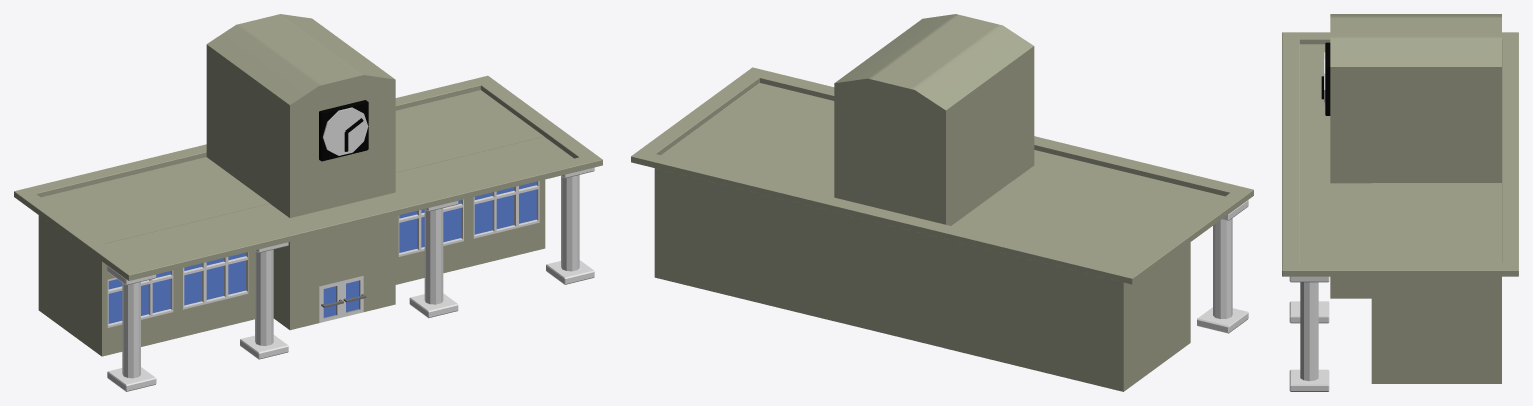
File: School 001.fbx
The picture shows the model from 3 angles, left to right: view 1: azimuth 30°, elevation 25°; view 2: azimuth 150°, elevation 25°; view 3: azimuth 270°, elevation 25°; orthographic projection. The views are drawn at different scales.
Parts seen in each view (by area): view 1: pCube1, pCube9 (×2), pCube3, pCylinder2 (×4), pCube13 (×2), pCube14 (×2), pCube12 (×4), pCylinder1, pCube4; view 2: pCube9 (×2), pCube1, pCube3, pCylinder2, pCube12; view 3: pCube1, pCube9, pCube3, pCylinder2, pCube12 (×2), pCube4, pCube11.
Part boxes in pixels (<box>): pCube1: <box>206,14,395,330</box>; pCube9 (×2): <box>38,90,545,356</box>; pCube3: <box>14,75,602,280</box>; pCylinder2 (×4): <box>122,175,579,378</box>; pCube13 (×2): <box>107,181,539,327</box>; pCube14 (×2): <box>183,199,463,309</box>; pCube12 (×4): <box>107,260,594,391</box>; pCylinder1: <box>323,107,368,155</box>; pCube4: <box>319,100,368,161</box>; pCube9 (×2): <box>654,110,1190,391</box>; pCube1: <box>834,14,1034,347</box>; pCube3: <box>631,67,1253,284</box>; pCylinder2: <box>1213,218,1232,318</box>; pCube12: <box>1197,307,1248,333</box>; pCube1: <box>1330,14,1501,298</box>; pCube9: <box>1371,183,1501,383</box>; pCube3: <box>1282,32,1518,276</box>; pCylinder2: <box>1300,282,1318,381</box>; pCube12 (×2): <box>1289,301,1329,391</box>; pCube4: <box>1325,42,1330,115</box>; pCube11: <box>1289,276,1329,282</box>.
Bounding box in the file's own units: 12.14 × 5.87 × 5.1.
